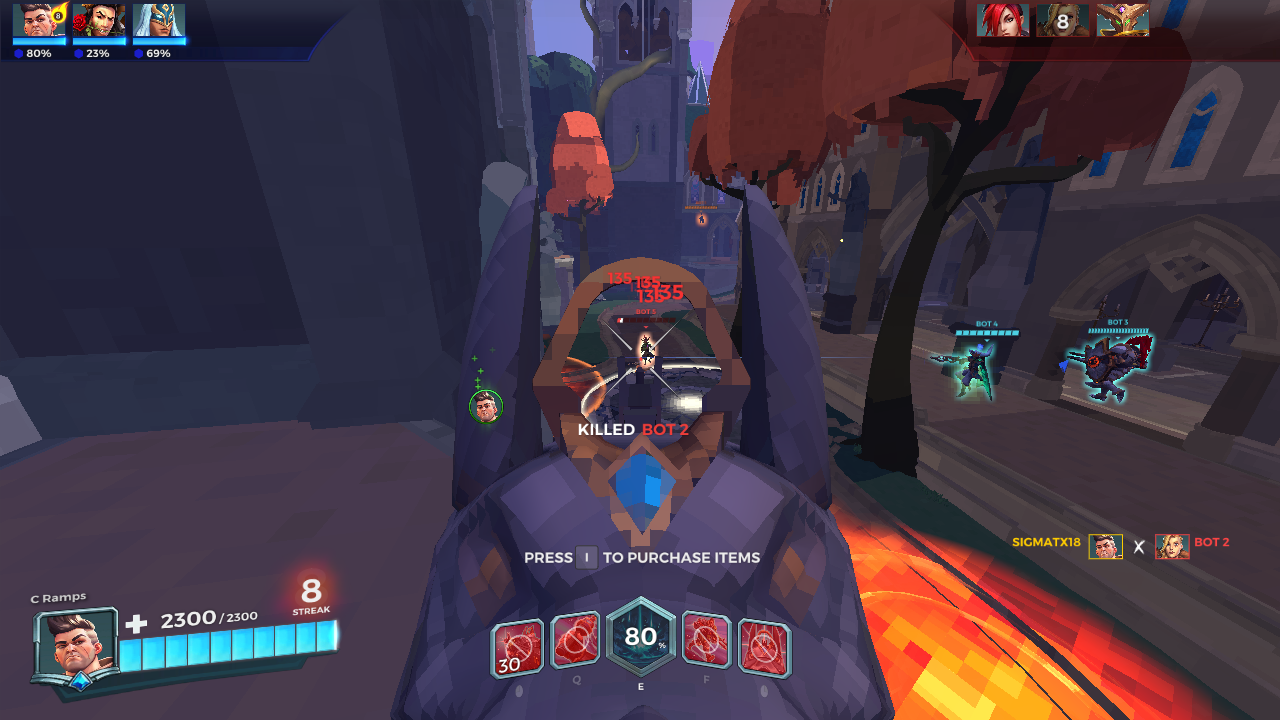model: (632, 329, 664, 372)
